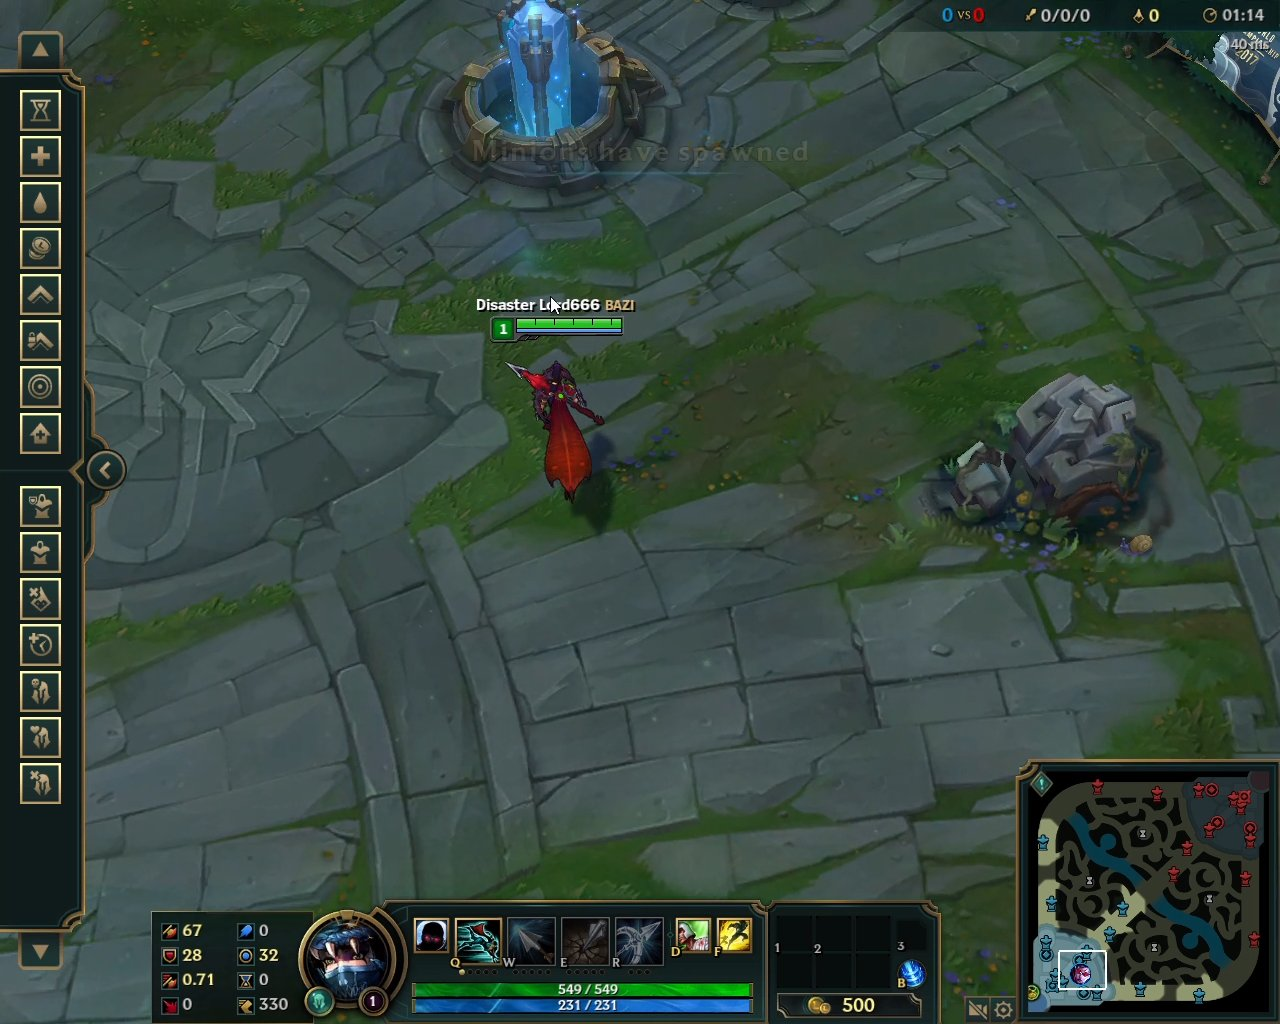Vayne: (501, 354, 614, 515)
